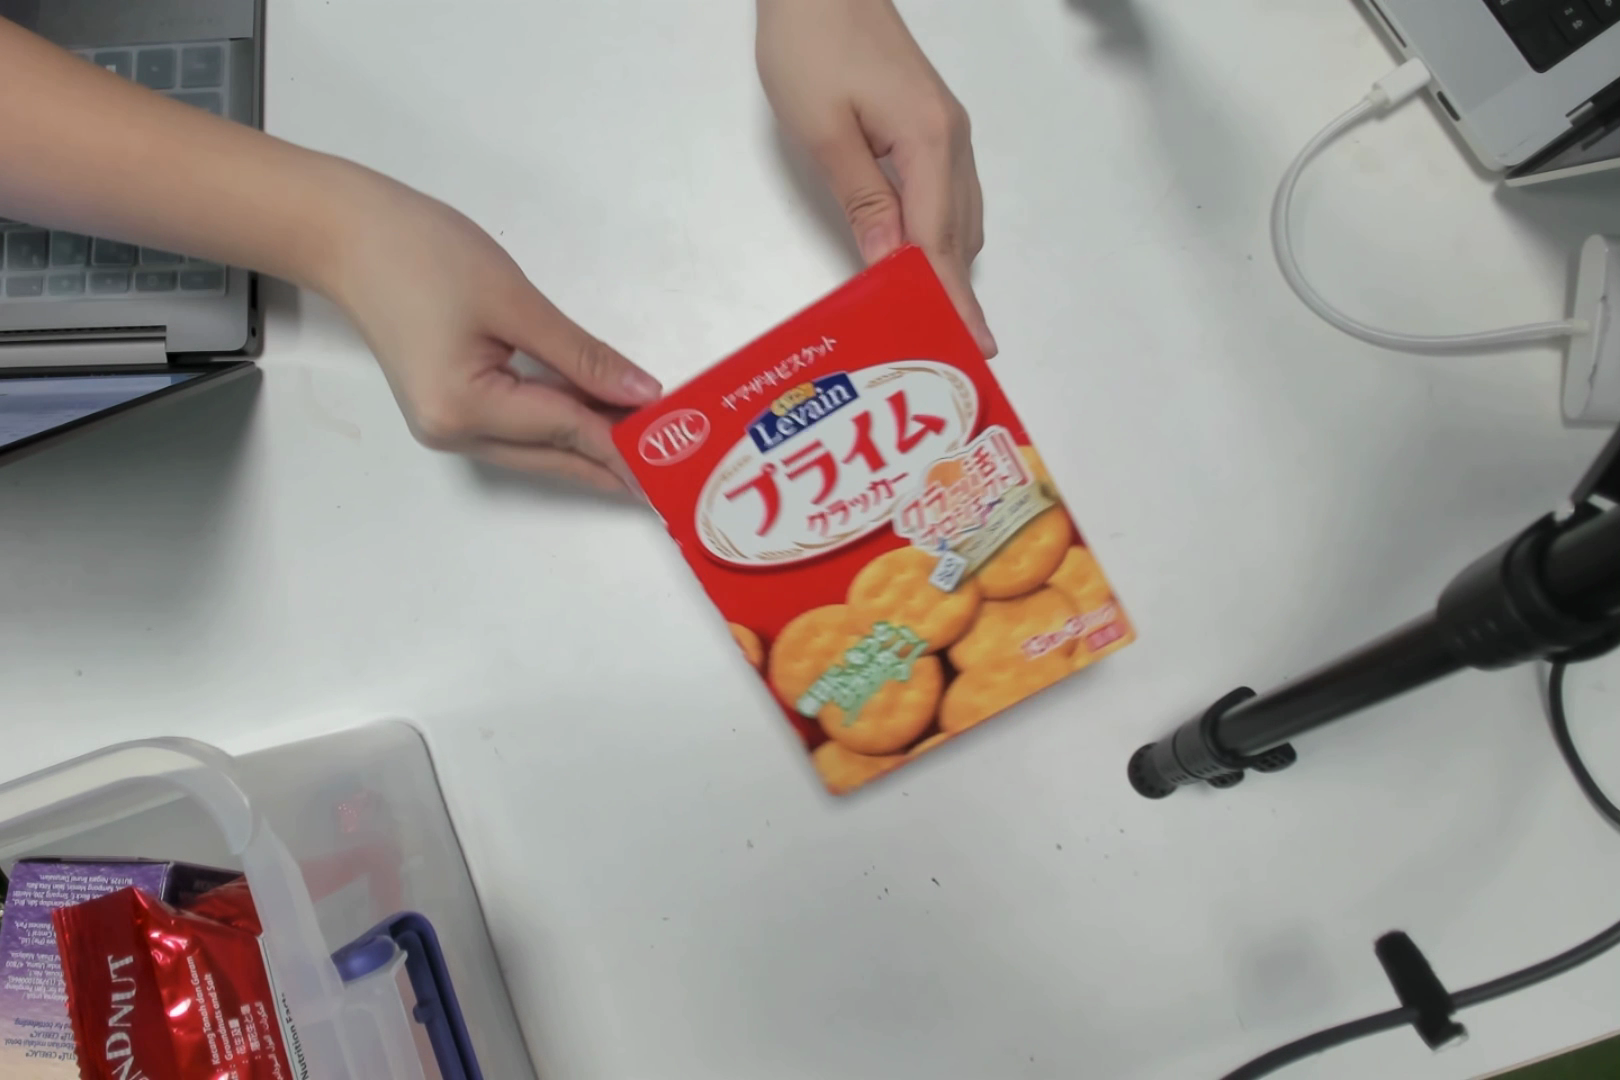d: (651, 341, 1127, 761)
